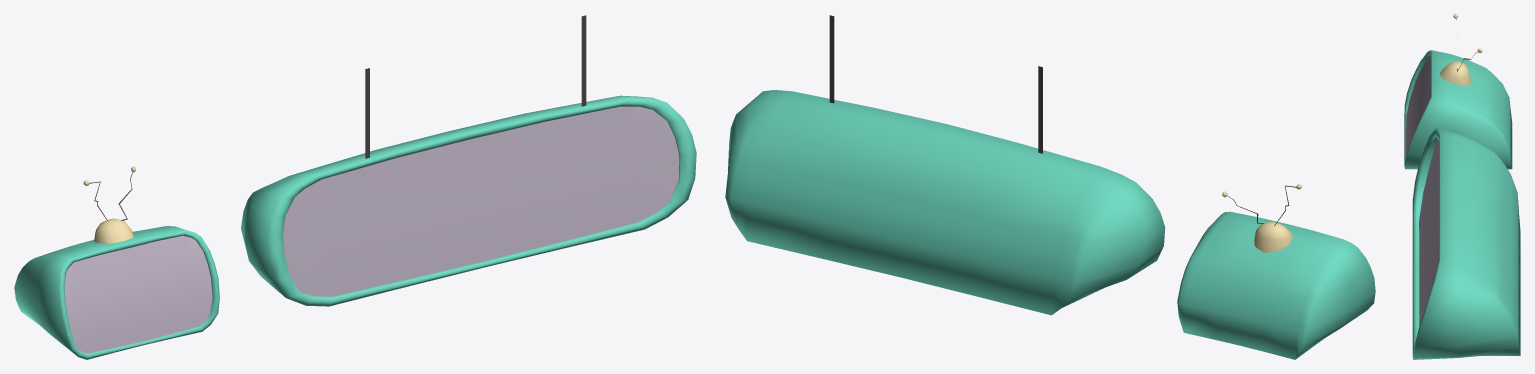
Rendered from tvs_islamecanica_v1.FBX.
The picture shows the model from 3 angles, left to right: view 1: azimuth 30°, elevation 25°; view 2: azimuth 150°, elevation 25°; view 3: azimuth 270°, elevation 25°; orthographic projection. The views are drawn at different scales.
Visible parts, largest first — view 1: Emociones_pantalla_grande, Emociones_tele_grande, Emociones_pantalla_peque, Emociones_tele_peque; view 2: Emociones_tele_grande, Emociones_tele_peque; view 3: Emociones_tele_grande, Emociones_tele_peque, Emociones_pantalla_grande, Emociones_pantalla_peque.
Part boxes in pixels (bbox=[...]): Emociones_pantalla_grande: bbox=[283, 106, 679, 296]; Emociones_tele_grande: bbox=[241, 15, 696, 306]; Emociones_pantalla_peque: bbox=[64, 235, 212, 353]; Emociones_tele_peque: bbox=[14, 166, 219, 359]; Emociones_tele_grande: bbox=[725, 15, 1165, 315]; Emociones_tele_peque: bbox=[1177, 184, 1375, 359]; Emociones_tele_grande: bbox=[1412, 128, 1520, 359]; Emociones_tele_peque: bbox=[1404, 14, 1512, 169]; Emociones_pantalla_grande: bbox=[1419, 139, 1438, 325]; Emociones_pantalla_peque: bbox=[1406, 56, 1430, 155].
Size of the model in its own units: 84.68 by 26.52 by 16.32.
Materials: 2 (2 with a texture image).
